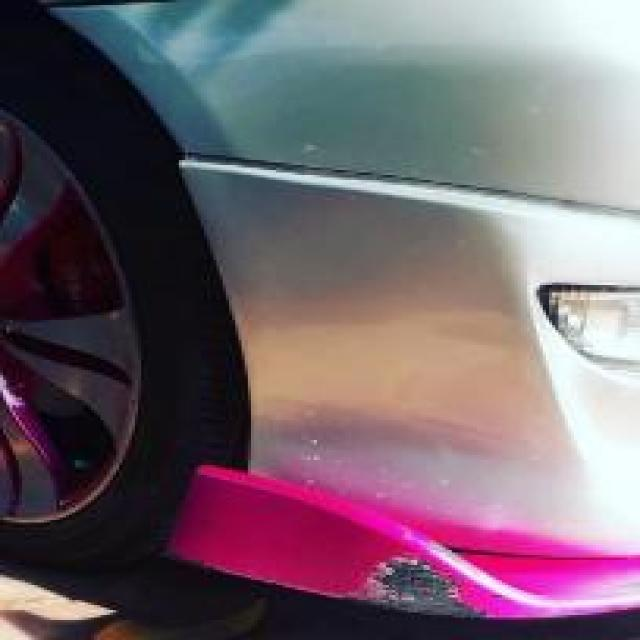Bumper: (195, 462, 640, 625)
